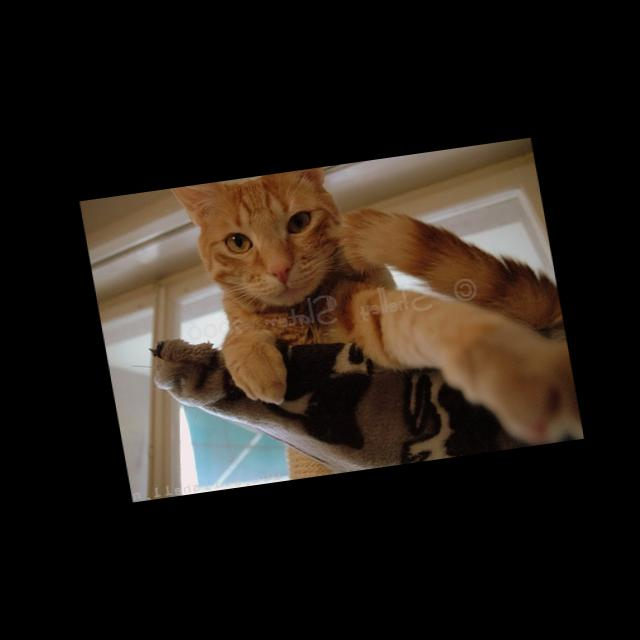animals: (162, 168, 338, 294)
